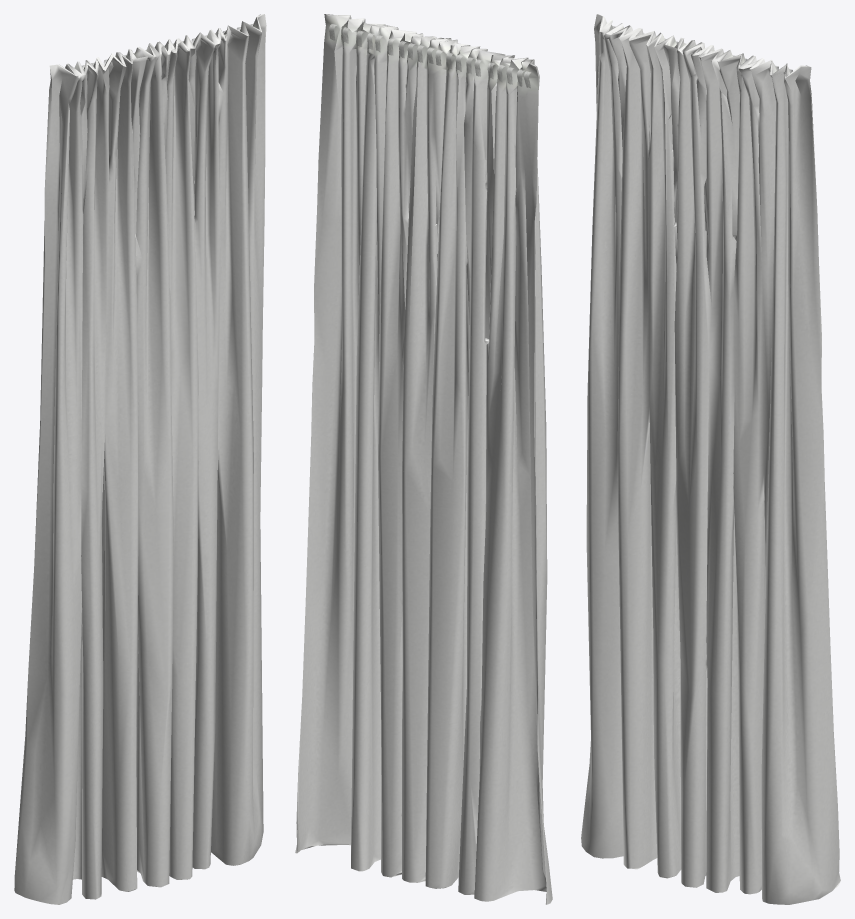
File: stockholm_2025_firanka_1_szt_90601002.glb
3 views of the same model, side by side, from view 1: azimuth 30°, elevation 25°; view 2: azimuth 150°, elevation 25°; view 3: azimuth 330°, elevation 25° (orthographic).
Parts seen in each view (by area): view 1: stockholm_2025_firanka_1_szt_90601002; view 2: stockholm_2025_firanka_1_szt_90601002; view 3: stockholm_2025_firanka_1_szt_90601002.
Boxes of the visible parts, left/top/right/bottom form: stockholm_2025_firanka_1_szt_90601002: left=14, top=14, right=266, bottom=904; stockholm_2025_firanka_1_szt_90601002: left=295, top=14, right=552, bottom=904; stockholm_2025_firanka_1_szt_90601002: left=581, top=14, right=840, bottom=904.
Bounding box in the file's own units: 0.9378 × 3.06 × 0.2456.
Materials: 2 (2 with a texture image).
